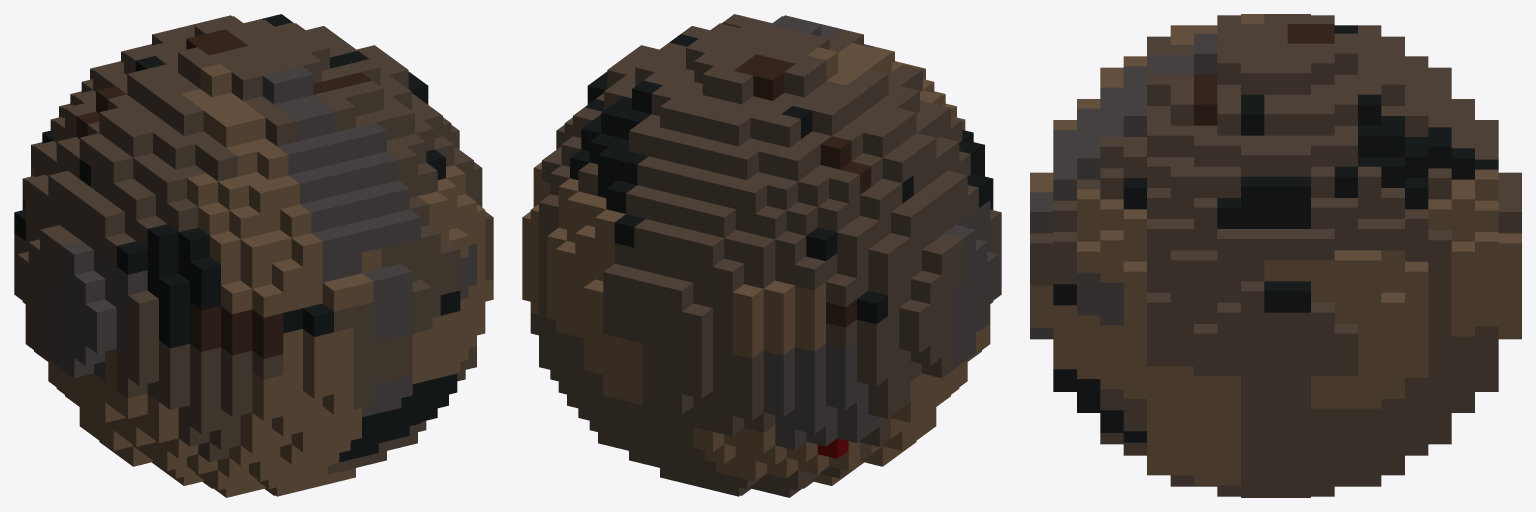
File: rock.fbx
3 renders of one model, left to right at view 1: azimuth 30°, elevation 25°; view 2: azimuth 150°, elevation 25°; view 3: azimuth 270°, elevation 25°, orthographic. The views are drawn at different scales.
Visible parts, largest first — view 1: rock; view 2: rock; view 3: rock.
Boxes of the visible parts, x1,y1,x2,y2 form: rock: [14, 14, 493, 497]; rock: [522, 14, 1001, 497]; rock: [1030, 14, 1521, 497].
Size of the model in its own units: 364 by 364 by 382.
